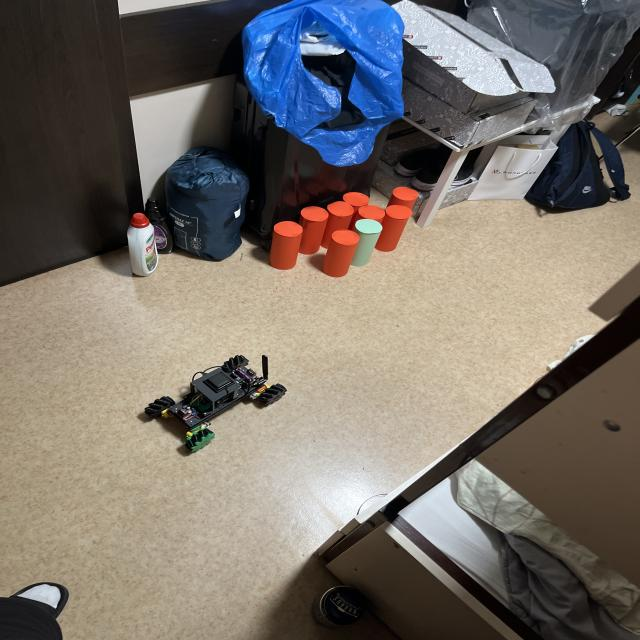robot: (145, 355, 287, 452)
